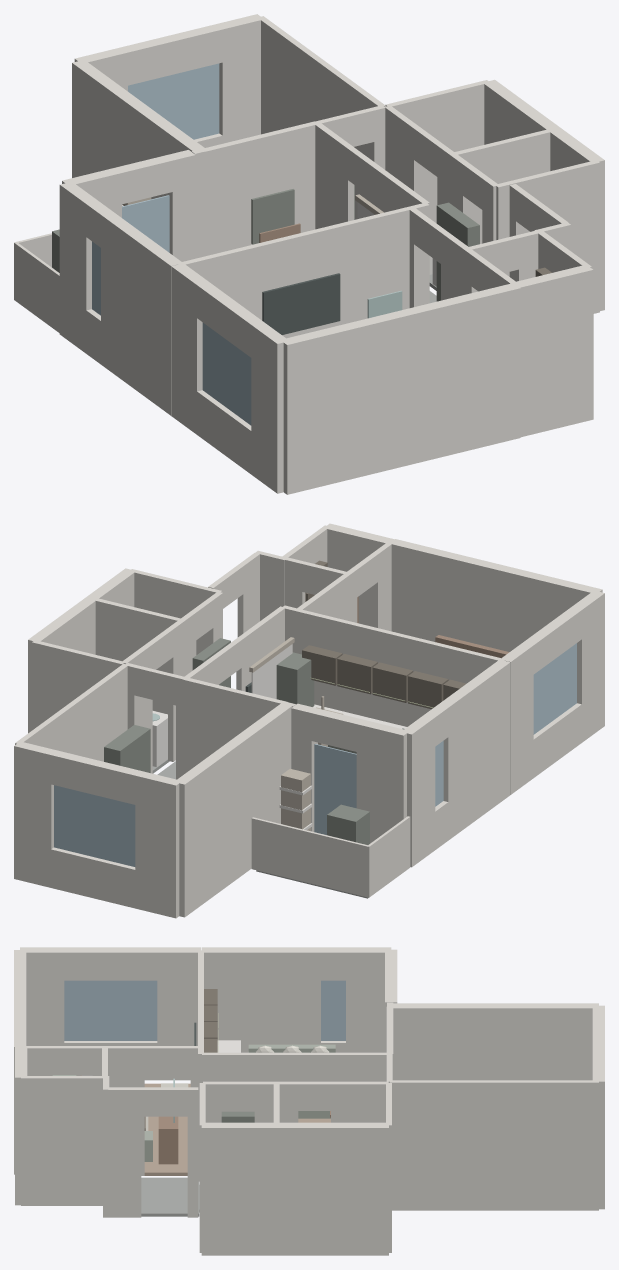
Rendered from kvartira-japandi-now-guest.glb.
The picture shows the model from 3 angles, top to bottom: view 1: azimuth 30°, elevation 25°; view 2: azimuth 150°, elevation 25°; view 3: azimuth 270°, elevation 25°; orthographic projection. The views are drawn at different scales.
Parts seen in each view (by area): view 1: wall_w_l_s_166_612_0.0, wall_w_dividing_168_644_0.0, wall_w_closet_s_612_752_0.0, wall_w_k_w_559_791_0.0, wall_w_top_s_426_660_0.0, wall_w_top_w_20_423_0.0, wall_w_top_e_20_425_0.0, wall_w_wc_s_777_971_0.0, wall_w_l_w_1057_1143_0.0, wall_w_top_n_691_771_0.0, wall_w_bath_n_777_971_0.0, wall_w_k_w_423_511_0.0 (+40 smaller); view 2: wall_w_l_s_166_612_0.0, wall_w_top_w_20_423_0.0, wall_w_dividing_168_644_0.0, wall_w_k_w_559_791_0.0, wall_w_top_n_422_510_0.0, wall_w_log_n_159_409_0.0, wall_w_top_n_691_771_0.0, wall_w_top_e_20_425_0.0, wall_w_top_n_510_691_0.8, wall_w_k_n1_165_266_0.0, wall_w_k_n2_408_643_0.0, wall_w_bath_n_777_971_0.0 (+51 smaller); view 3: wall_w_top_e_20_425_0.0, wall_w_bath_e_427_791_0.0, wall_w_top_w_20_423_0.0, wall_w_k_w_559_791_0.0, wall_w_closet_e_978_1141_0.0, wall_w_l_w_877_1057_0.8, wall_w_entry_e_908_972_0.0, wall_w_l_w_792_877_0.0, wall_w_k_w_423_511_0.0, wall_w_l_w_1057_1143_0.0, wall_w_l_w_877_1057_2.1, wall_w_k_e_625_790_0.0 (+28 smaller).
Part boxes in pixels (x1,y1,x2,y2): wall_w_l_s_166_612_0.0: (281, 283, 520, 494); wall_w_dividing_168_644_0.0: (178, 202, 429, 338); wall_w_closet_s_612_752_0.0: (516, 265, 593, 437); wall_w_k_w_559_791_0.0: (101, 212, 182, 415); wall_w_top_s_426_660_0.0: (204, 119, 327, 256); wall_w_top_w_20_423_0.0: (72, 60, 204, 199); wall_w_top_e_20_425_0.0: (258, 16, 385, 219); wall_w_wc_s_777_971_0.0: (495, 161, 599, 313); wall_w_l_w_1057_1143_0.0: (251, 322, 289, 493); wall_w_top_n_691_771_0.0: (216, 14, 263, 143); wall_w_bath_n_777_971_0.0: (385, 80, 489, 223); wall_w_k_w_423_511_0.0: (59, 183, 98, 353); wall_w_l_s_166_612_0.0: (390, 539, 602, 651); wall_w_top_w_20_423_0.0: (174, 703, 292, 917); wall_w_dividing_168_644_0.0: (282, 605, 505, 726); wall_w_k_w_559_791_0.0: (437, 659, 510, 840); wall_w_top_n_422_510_0.0: (135, 771, 181, 918); wall_w_log_n_159_409_0.0: (251, 817, 368, 897); wall_w_top_n_691_771_0.0: (14, 742, 56, 887); wall_w_top_e_20_425_0.0: (15, 663, 127, 761); wall_w_top_n_510_691_0.8: (54, 785, 135, 866); wall_w_k_n1_165_266_0.0: (356, 719, 409, 843); wall_w_k_n2_408_643_0.0: (183, 679, 295, 774); wall_w_bath_n_777_971_0.0: (32, 641, 124, 730); wall_w_top_e_20_425_0.0: (390, 1080, 598, 1210); wall_w_bath_e_427_791_0.0: (201, 1122, 388, 1255); wall_w_top_w_20_423_0.0: (391, 1003, 598, 1080); wall_w_k_w_559_791_0.0: (201, 947, 320, 1052); wall_w_closet_e_978_1141_0.0: (21, 1076, 104, 1205); wall_w_l_w_877_1057_0.8: (64, 980, 157, 1040); wall_w_entry_e_908_972_0.0: (108, 1087, 141, 1217); wall_w_l_w_792_877_0.0: (157, 947, 200, 1080); wall_w_k_w_423_511_0.0: (346, 947, 391, 1052); wall_w_l_w_1057_1143_0.0: (20, 947, 64, 1045); wall_w_l_w_877_1057_2.1: (64, 947, 157, 980); wall_w_k_e_625_790_0.0: (202, 1052, 286, 1111).
Size of the model in its own units: 8.24 by 2.77 by 11.41.
